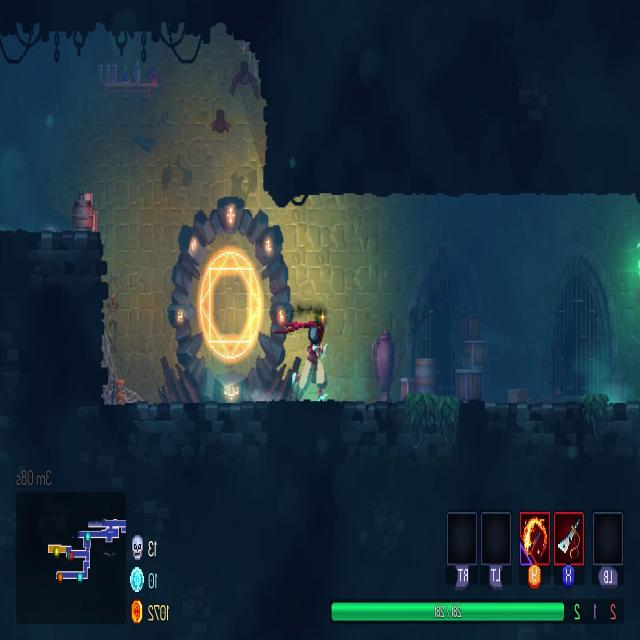agents: (302, 311, 326, 402)
